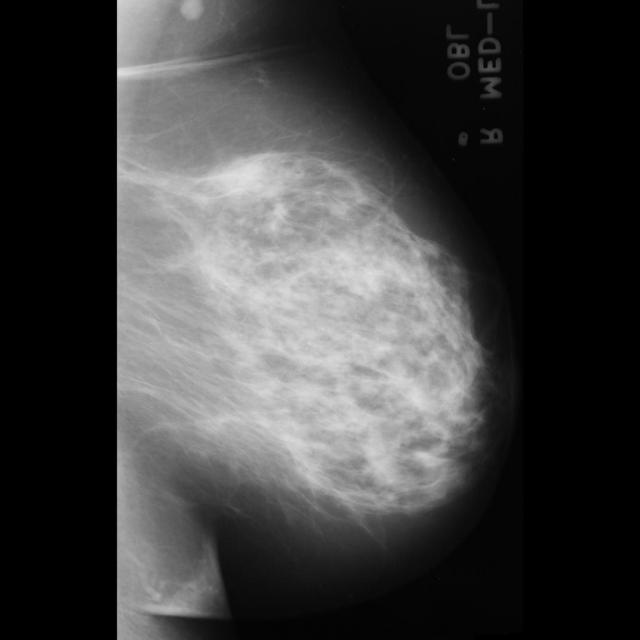tumour: (208, 153, 288, 198)
